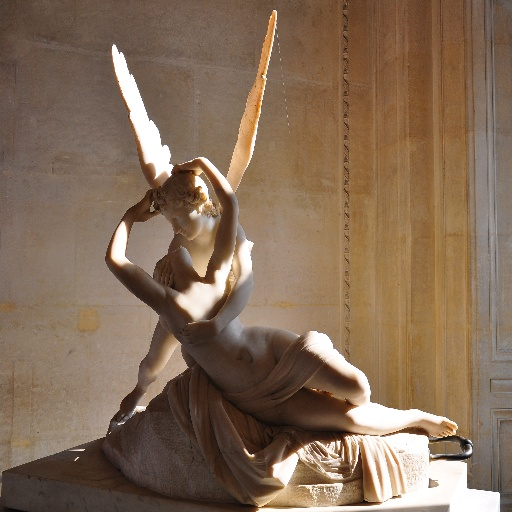hand: (130, 184, 162, 222), (177, 319, 217, 348), (167, 153, 206, 178), (155, 258, 174, 289)
